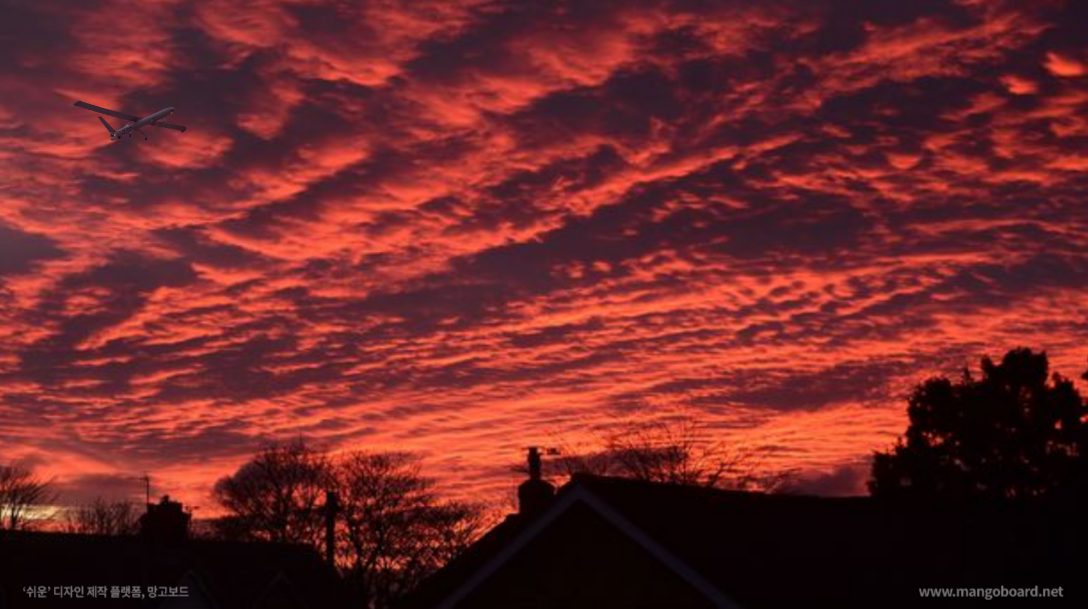military drone: (72, 100, 186, 140)
